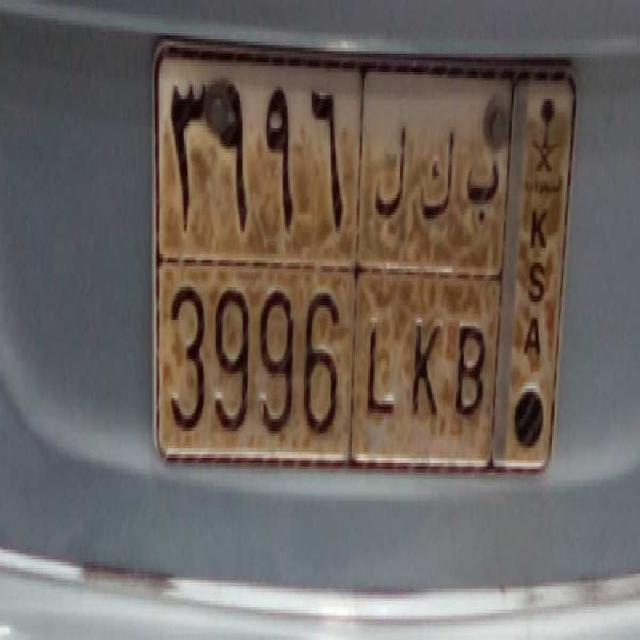license_plate: (158, 253, 497, 462)
